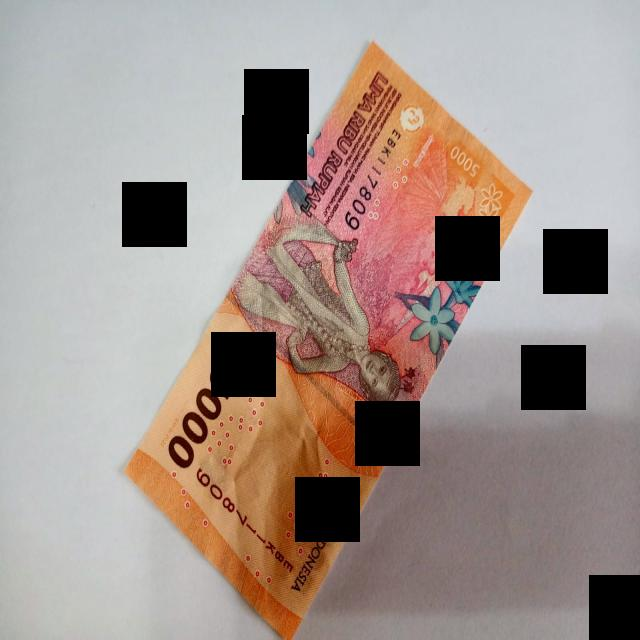lima ribu rupiah: (126, 43, 530, 637)
